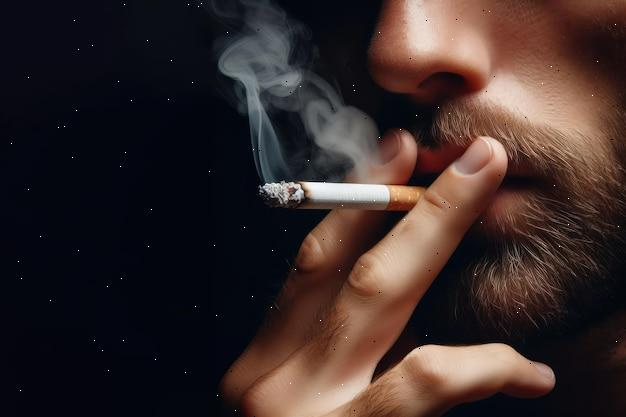cigarette: (258, 181, 425, 210)
